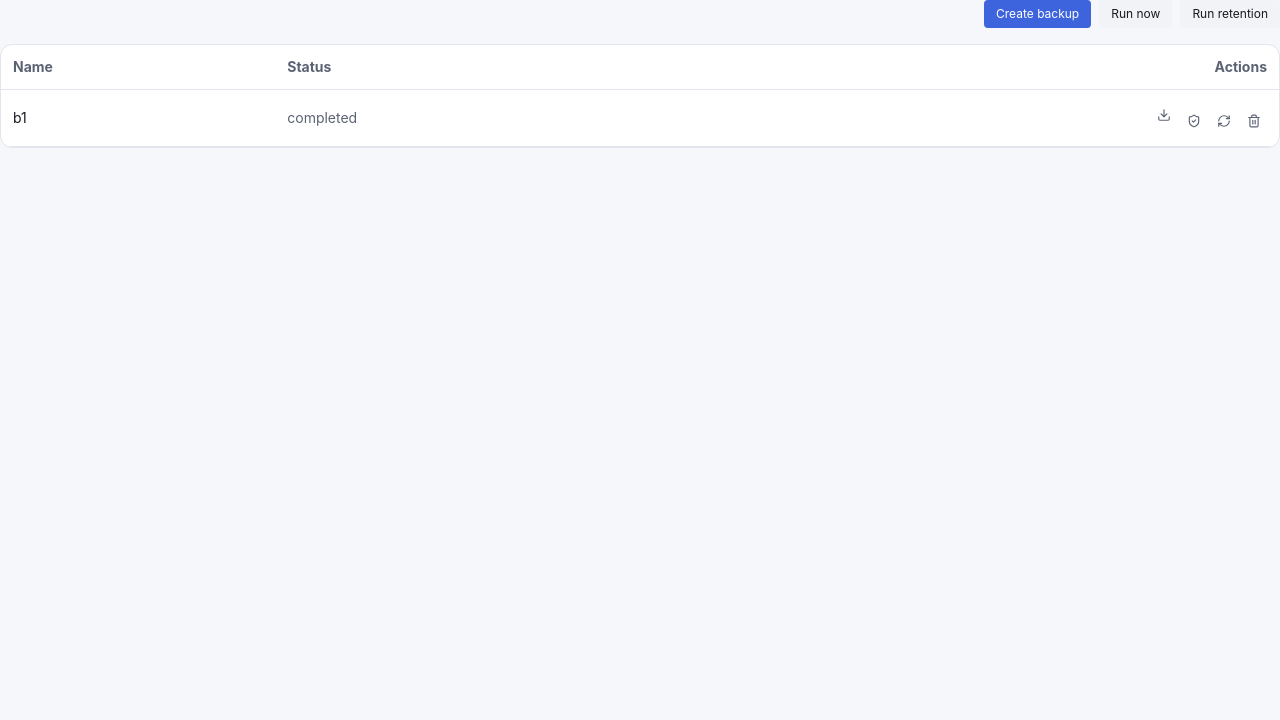
it: Reliability > BackupsPanel › restore requires typed confirmation and displays the returned restore job id
Expected: the text "b1" is shown, 1,90 -> 275,146
Click the button titled "Restore".
click(1224, 121)  # box 1211,108 -> 1237,134
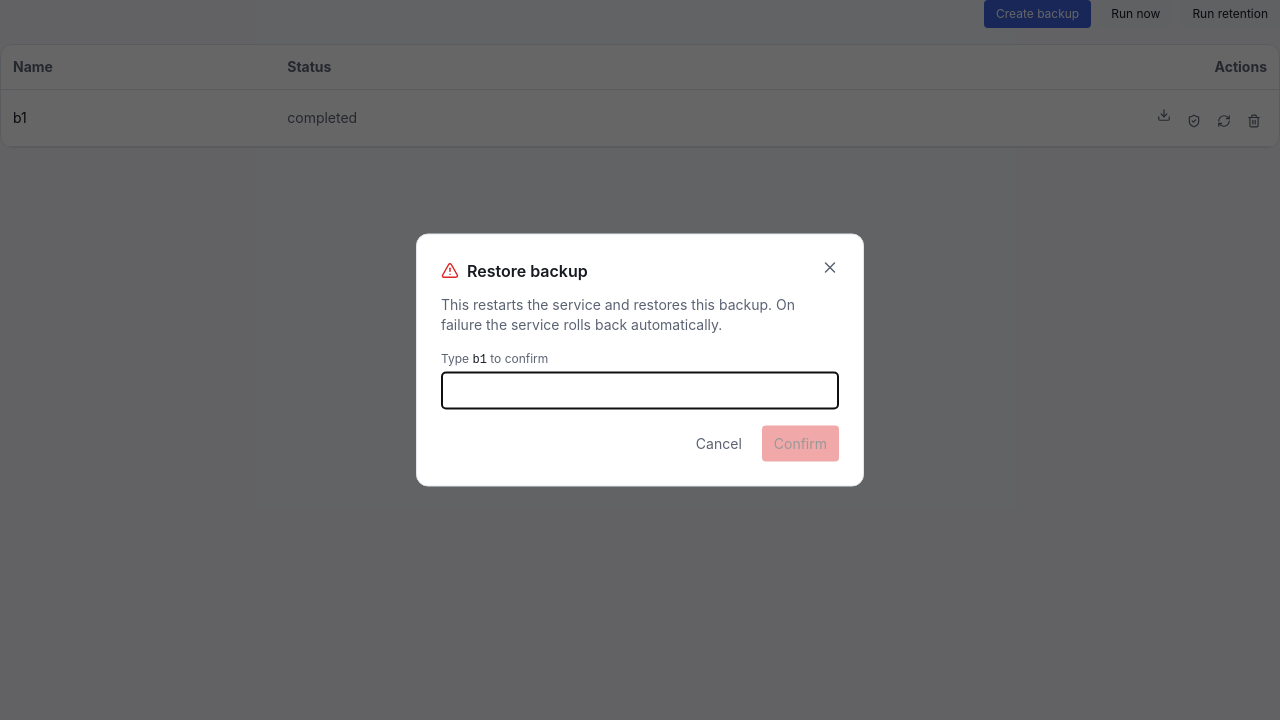
Type "b1" into the field.
click(640, 390); type("b1")  # box 441,372 -> 839,410
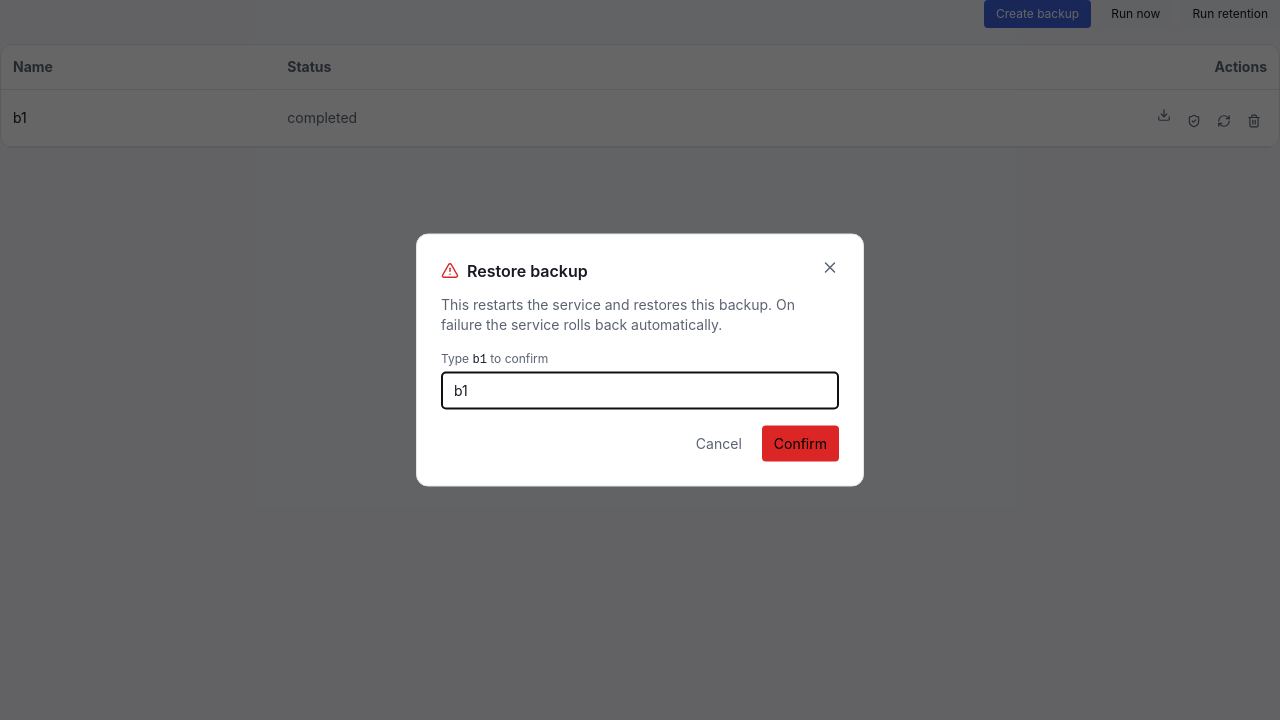
Click the button "Confirm".
click(800, 444)  # box 762,426 -> 839,462
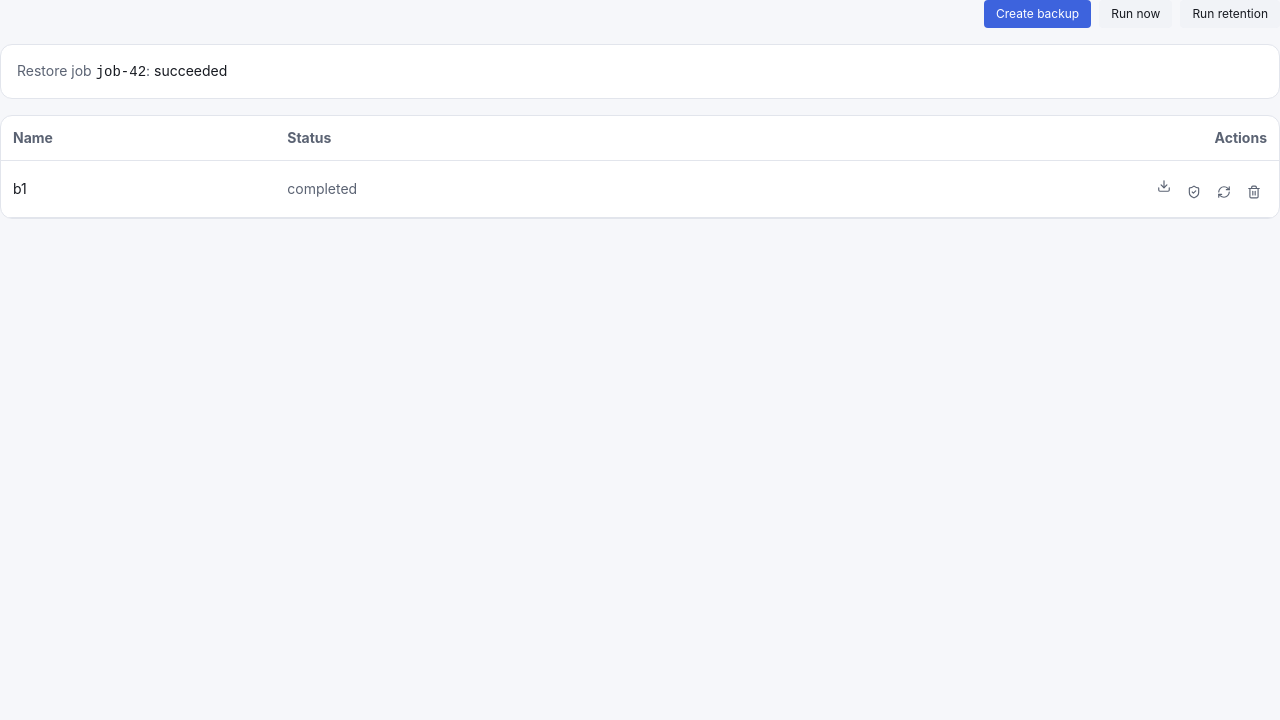
Result: the text "job-42" is shown at 96,64 -> 146,80
